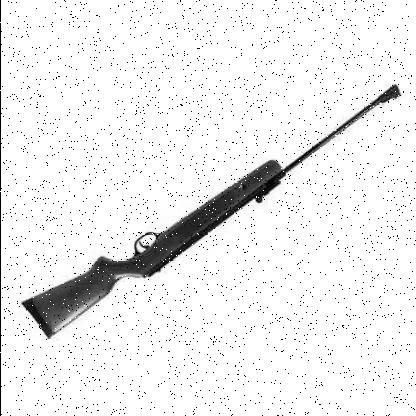rifle: (25, 86, 402, 350)
